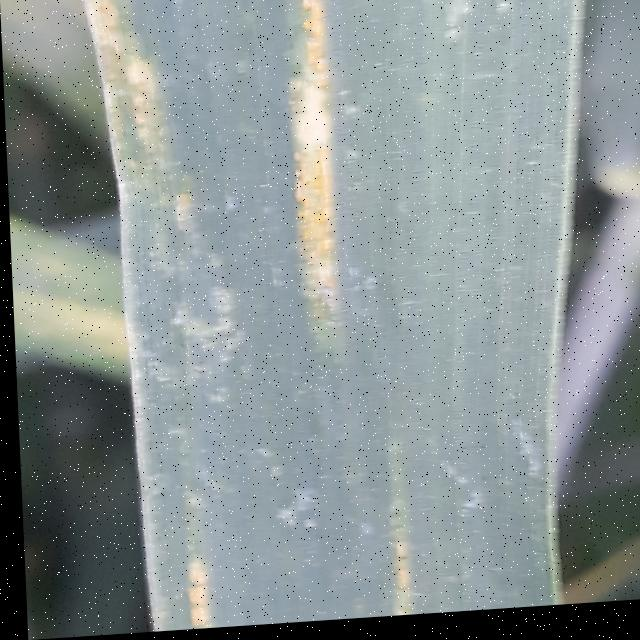yellow_rust: (62, 0, 619, 637)
